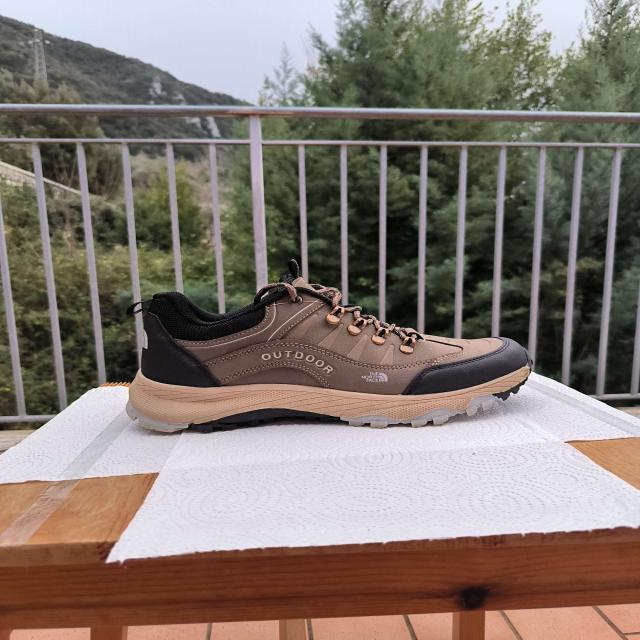shoes: (124, 274, 536, 437)
